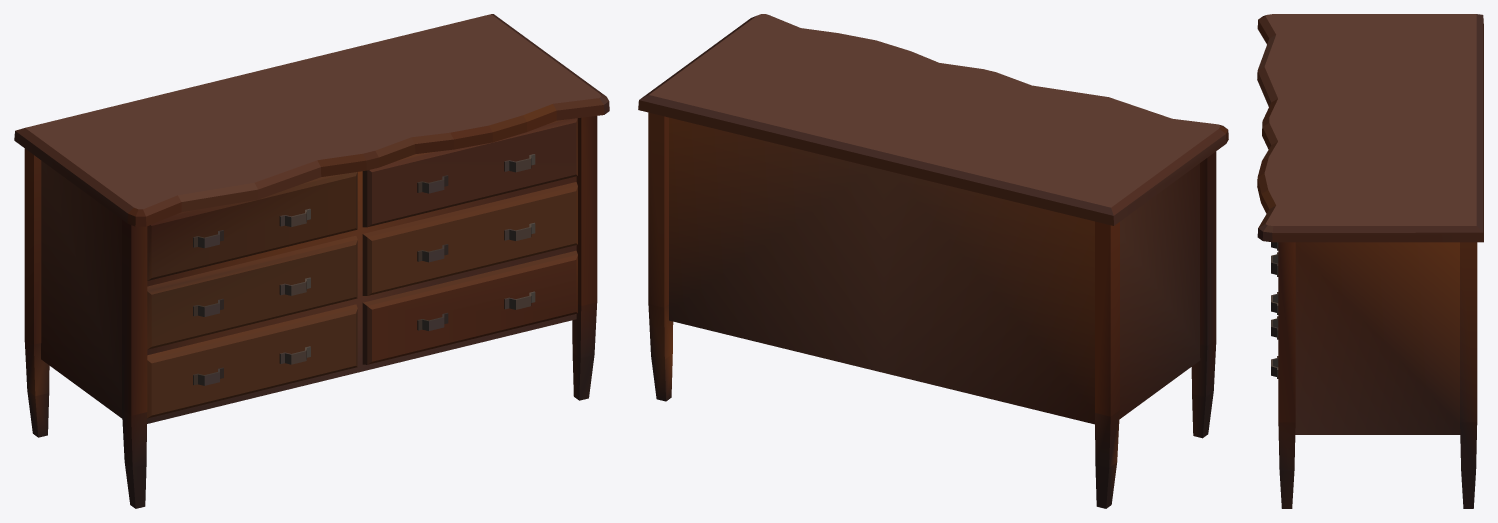
The model's file is Furniture_DresserA.fbx.
The picture shows the model from 3 angles, left to right: view 1: azimuth 30°, elevation 25°; view 2: azimuth 150°, elevation 25°; view 3: azimuth 270°, elevation 25°; orthographic projection. The views are drawn at different scales.
Visible parts, largest first — view 1: Furniture_DresserA; view 2: Furniture_DresserA; view 3: Furniture_DresserA.
Boxes of the visible parts, <box> form: Furniture_DresserA: <box>14,14,609,508</box>; Furniture_DresserA: <box>638,14,1228,508</box>; Furniture_DresserA: <box>1257,14,1483,508</box>.
Bounding box in the file's own units: 180 × 110 × 79.19.
